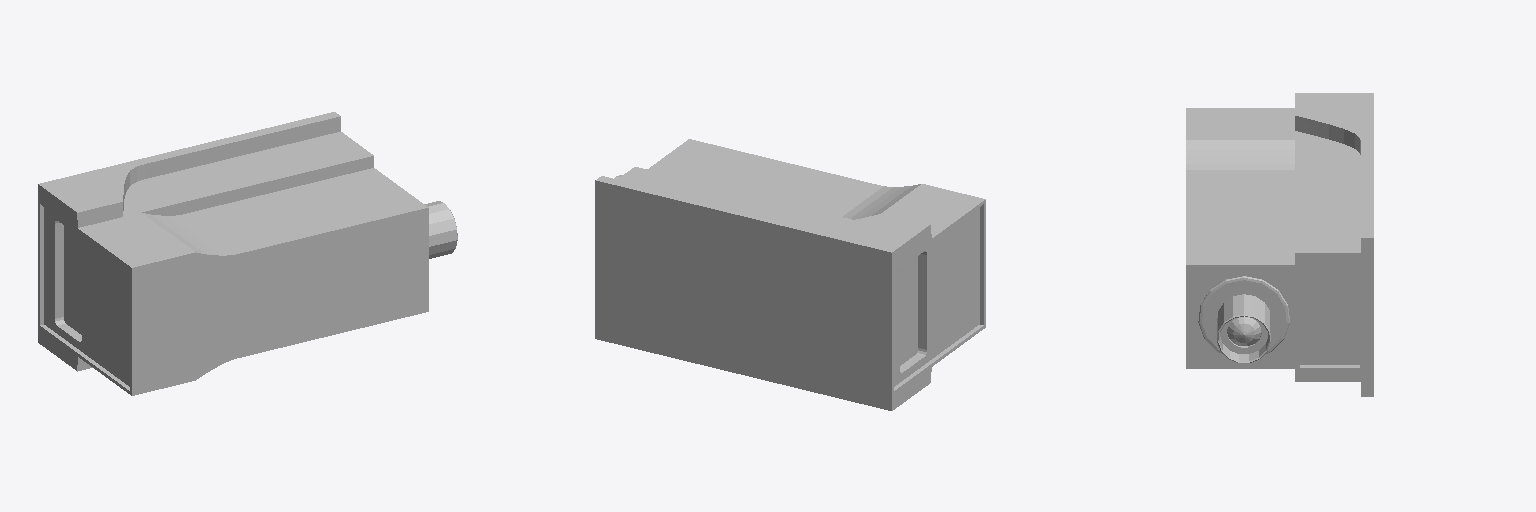
File: Laser.obj
3 views of the same model, side by side, from view 1: azimuth 30°, elevation 25°; view 2: azimuth 150°, elevation 25°; view 3: azimuth 270°, elevation 25° (orthographic).
Size of the model in its own units: 5.42 by 2.4 by 2.58.